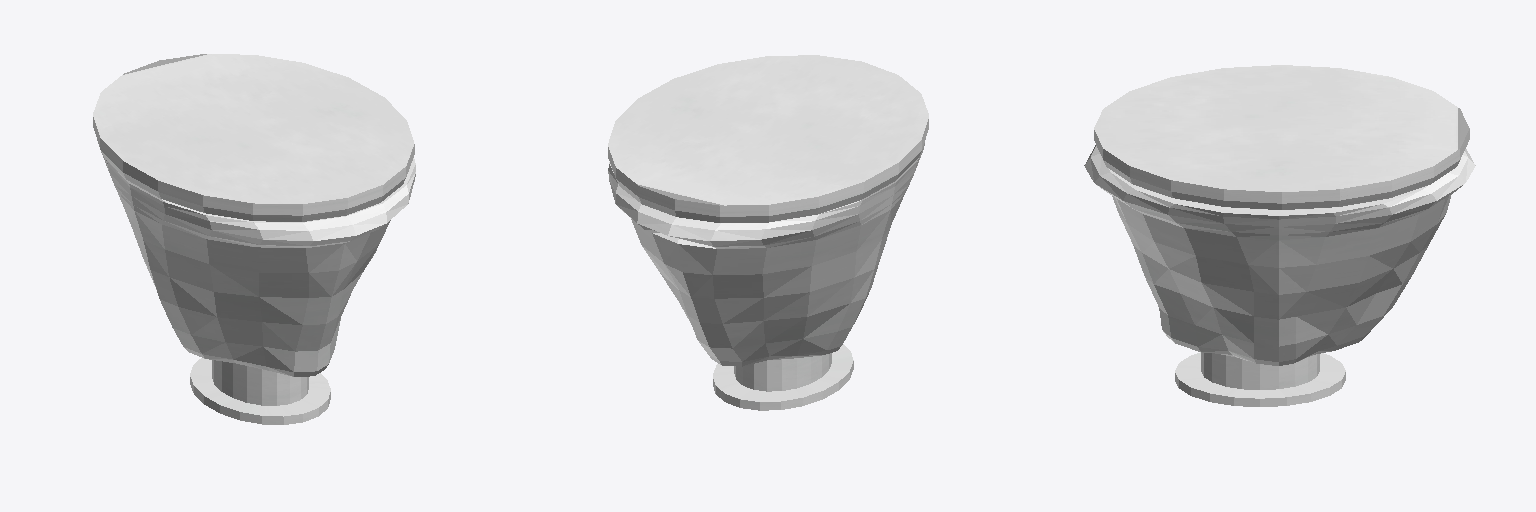
The picture shows the model from 3 angles: view 1: azimuth 30°, elevation 25°; view 2: azimuth 150°, elevation 25°; view 3: azimuth 270°, elevation 25°; orthographic projection.
Visible parts, largest first — view 1: pCylinder4; view 2: pCylinder4; view 3: pCylinder4.
Boxes of the visible parts, box(x1,y1,x2,y2) form: pCylinder4: box(93, 54, 415, 424); pCylinder4: box(608, 55, 928, 410); pCylinder4: box(1084, 65, 1475, 406).
Bounding box in the file's own units: 4.63 × 4.24 × 5.94.
1 materials, 1 textured.